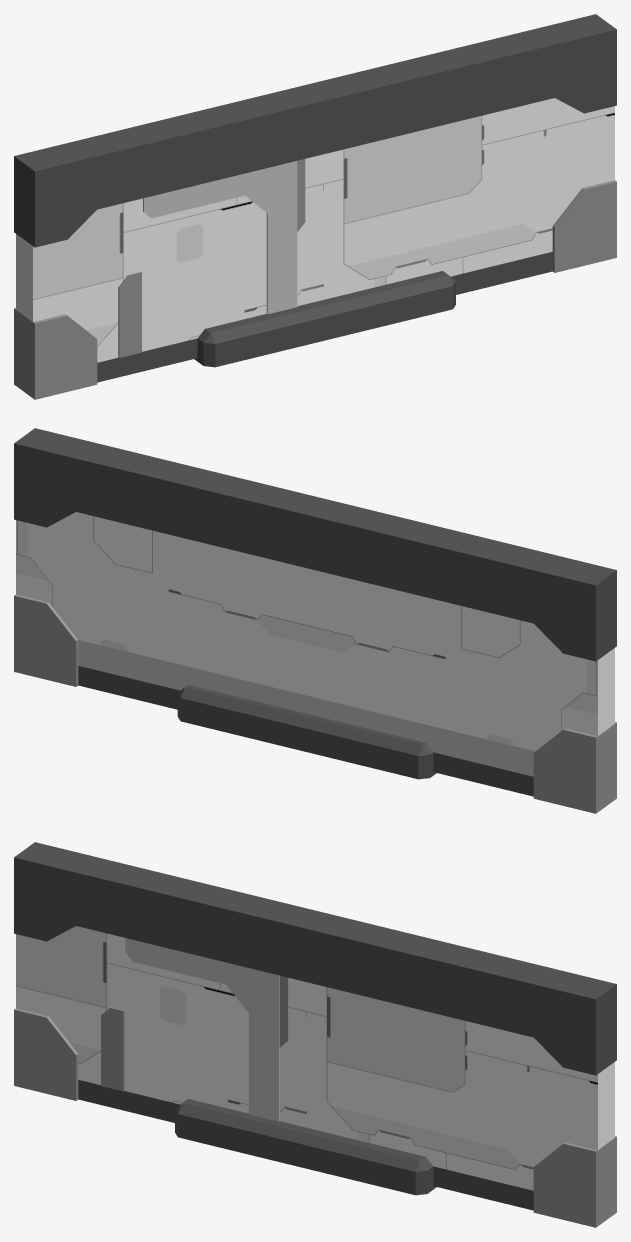
The model's file is SM_Wall_8x3_1.fbx.
3 renders of one model, top to bottom at view 1: azimuth 30°, elevation 25°; view 2: azimuth 150°, elevation 25°; view 3: azimuth 330°, elevation 25°, orthographic.
Parts seen in each view (by area): view 1: SM_Wall_8x3_1; view 2: SM_Wall_8x3_1; view 3: SM_Wall_8x3_1.
Part boxes in pixels (x1=…): SM_Wall_8x3_1: x1=14, y1=14, x2=616, y2=399; SM_Wall_8x3_1: x1=14, y1=428, x2=616, y2=813; SM_Wall_8x3_1: x1=14, y1=842, x2=616, y2=1227.
Size of the model in its own units: 800 by 305 by 82.27.
